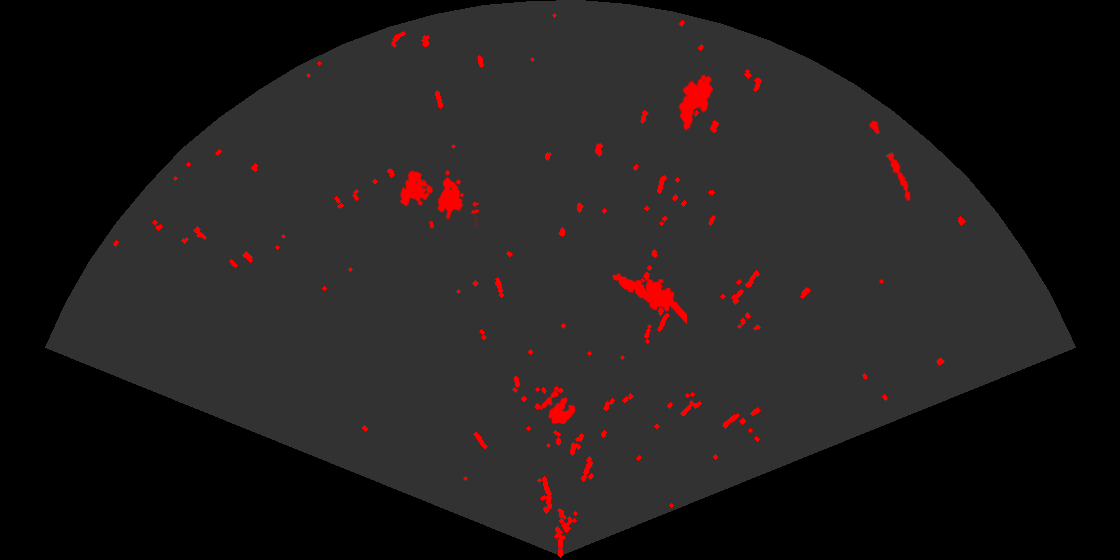AUV: (677, 73, 715, 132)
ball: (540, 389, 577, 426)
cage: (398, 168, 479, 228)
chain: (867, 115, 912, 203)
frogman: (611, 272, 687, 326)
